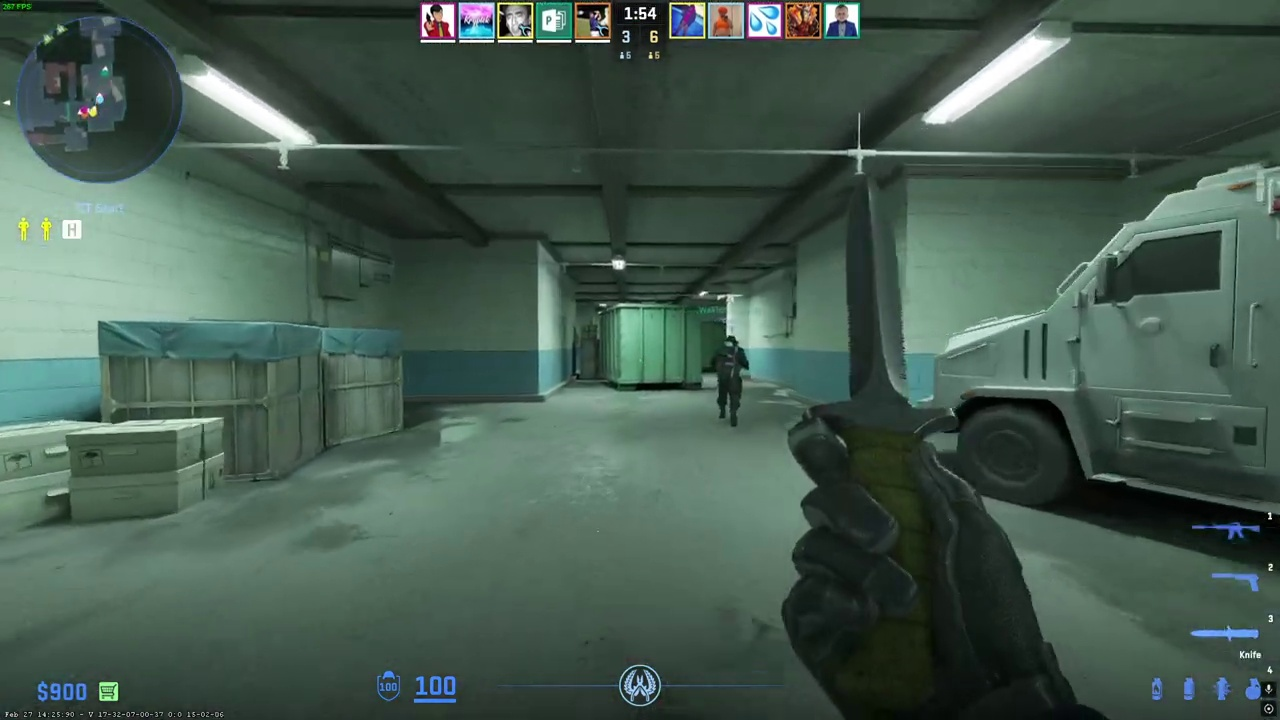CT: (712, 336, 746, 427)
